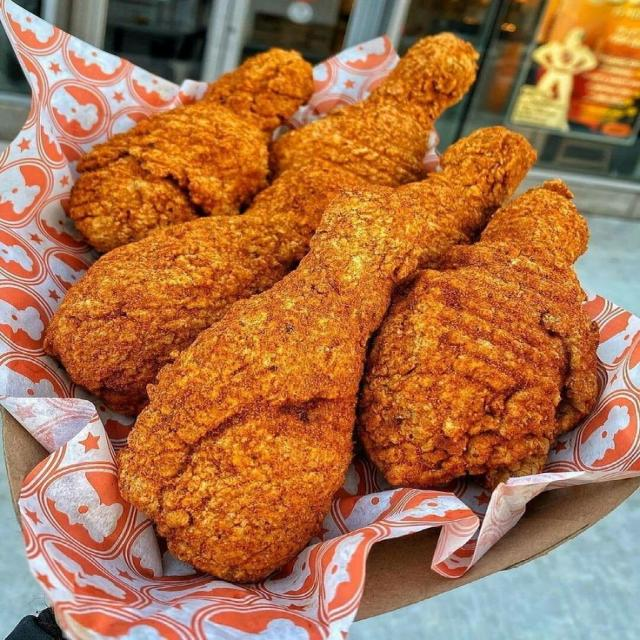Chicken -Fried Chicken-: (116, 202, 402, 586), (395, 189, 625, 482), (45, 209, 305, 391), (54, 32, 292, 230), (290, 26, 486, 175)
